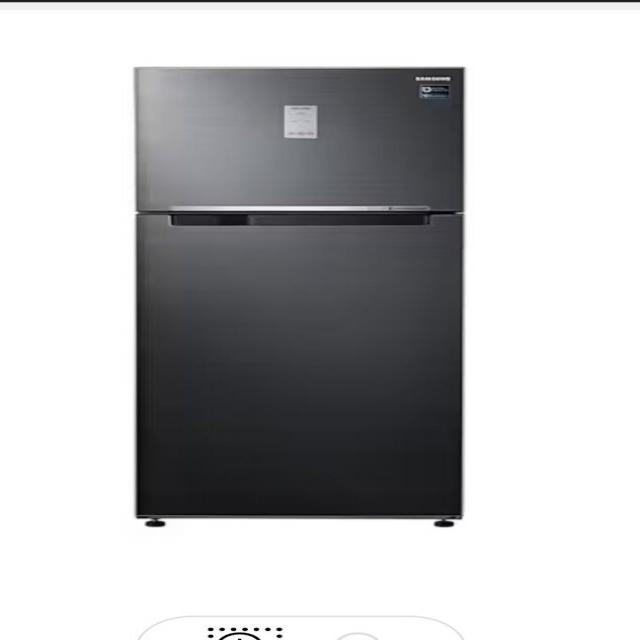refrigerator: (132, 64, 466, 530)
